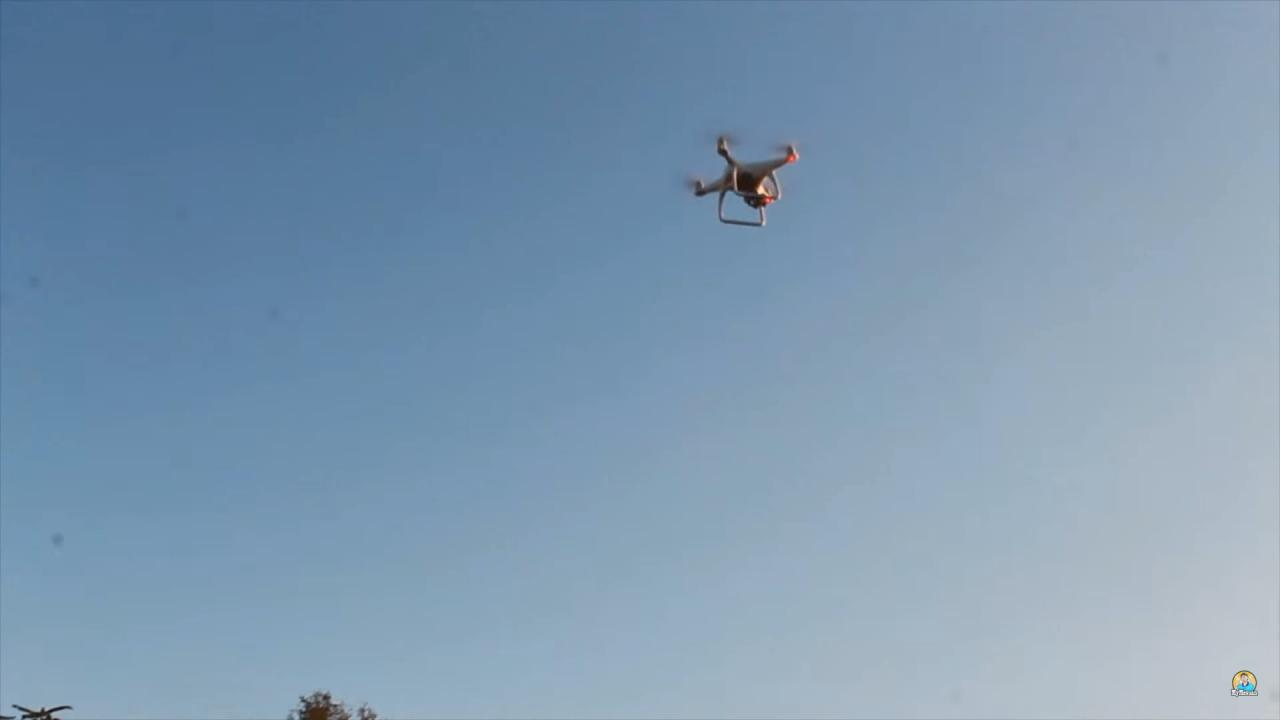Drone: (659, 120, 828, 240)
